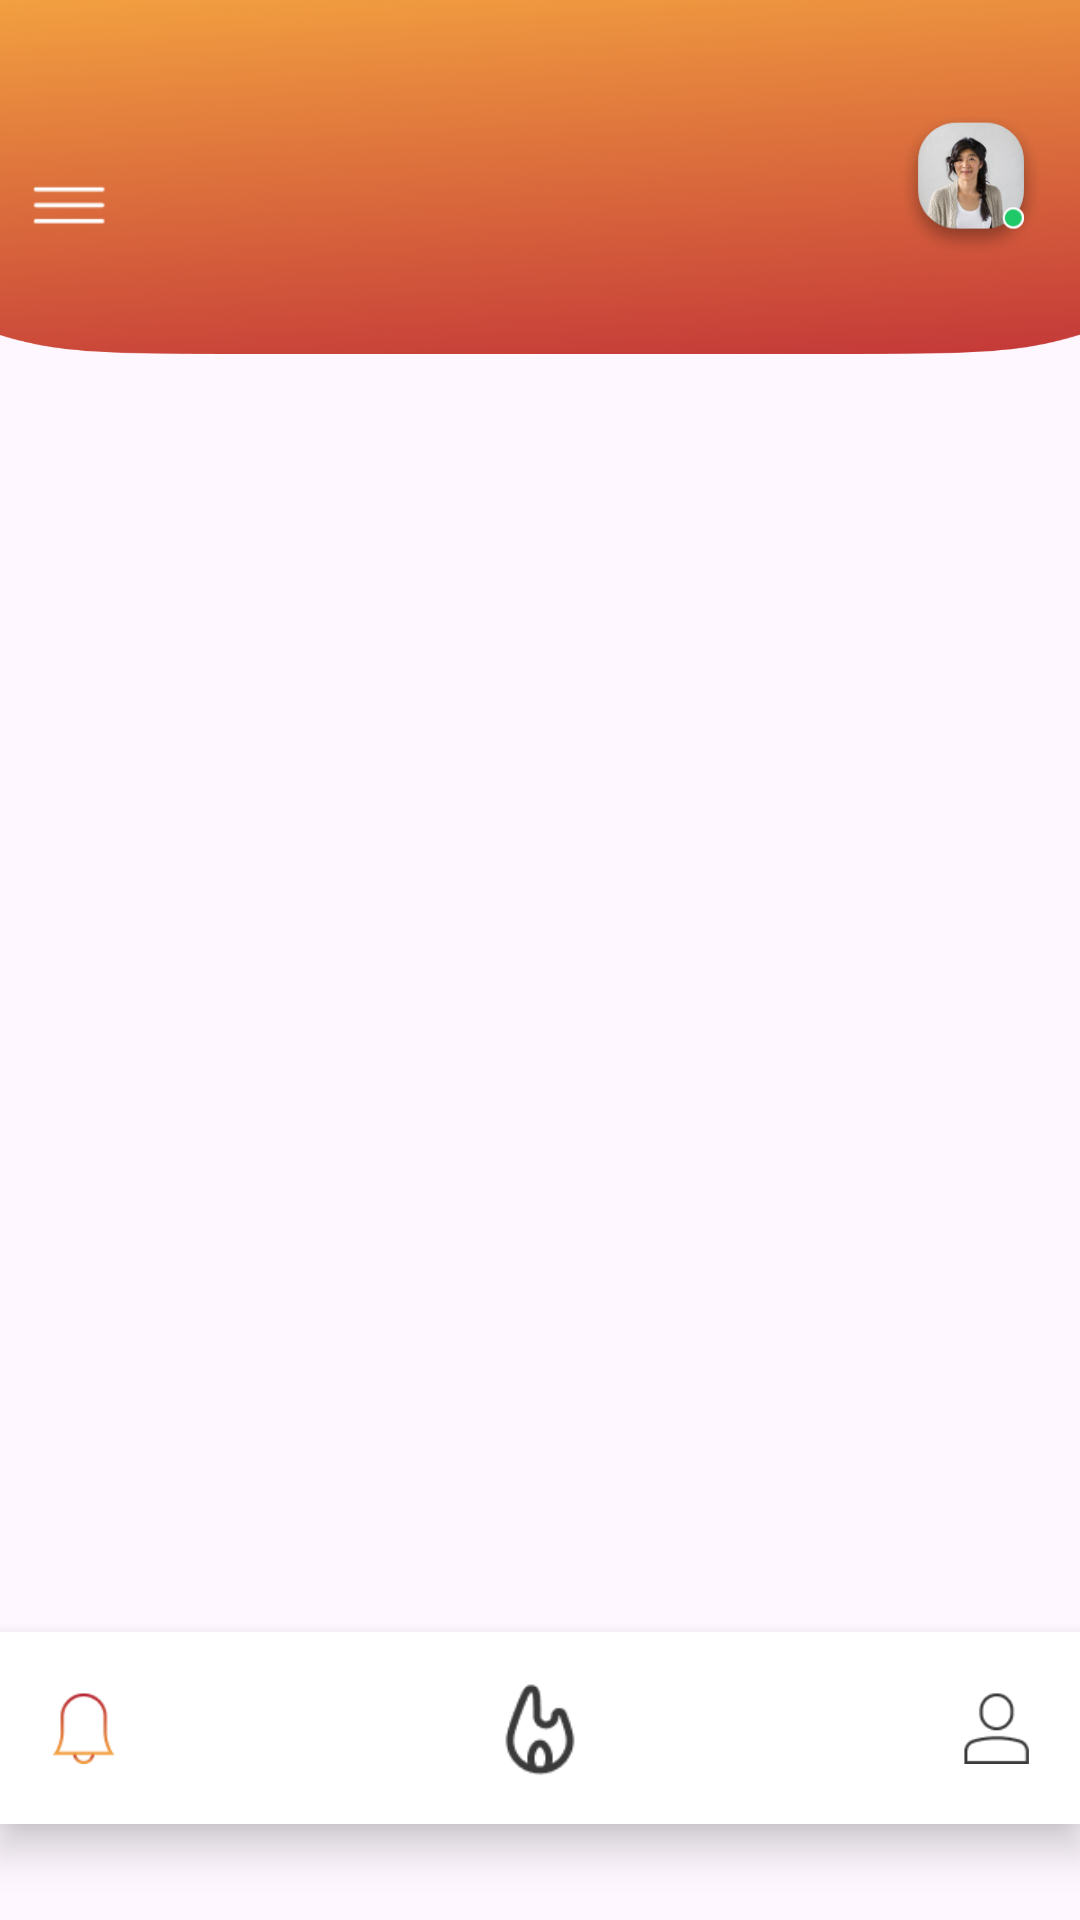

Screen size 1080x1920. Icon name, then its center in pixels as point (x, y):
fire: point (540, 1729)
menu: point (68, 214)
notification: point (84, 1728)
profile: point (970, 183), point (996, 1728)
